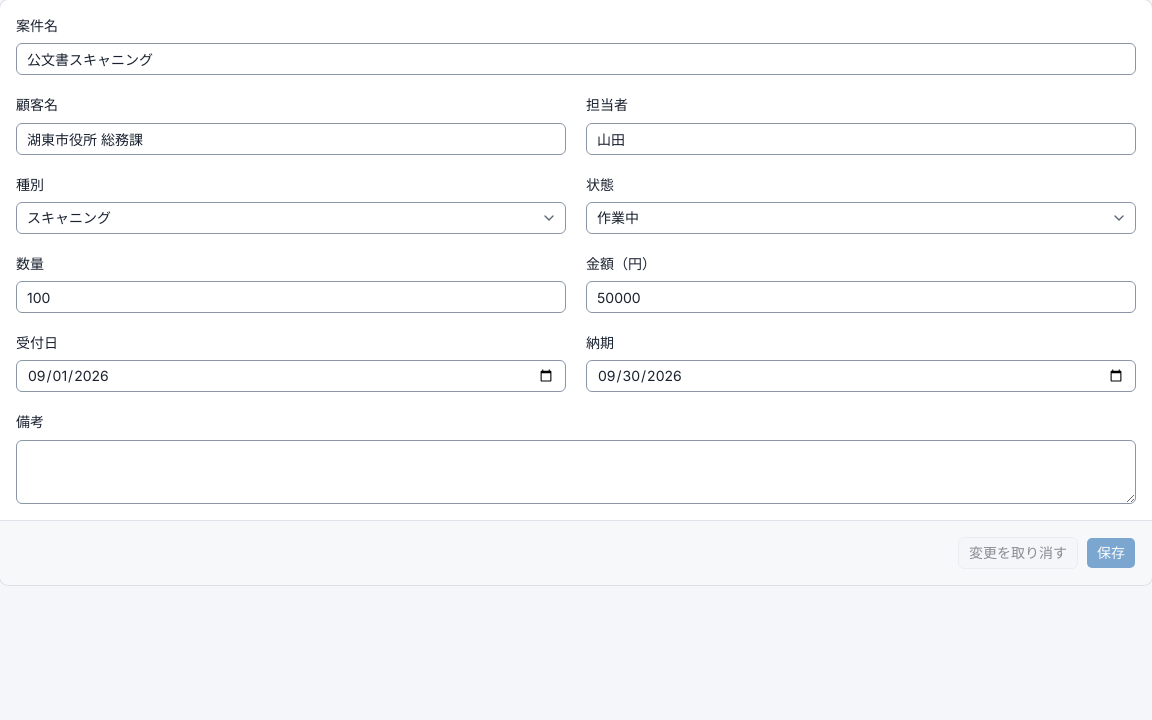
Scenario: OrderEditForm › 入力エラーがあると項目の下に理由を出し、保存しない
Clear the field labelled "案件名" at point(576, 59), box [16,43,1136,75]
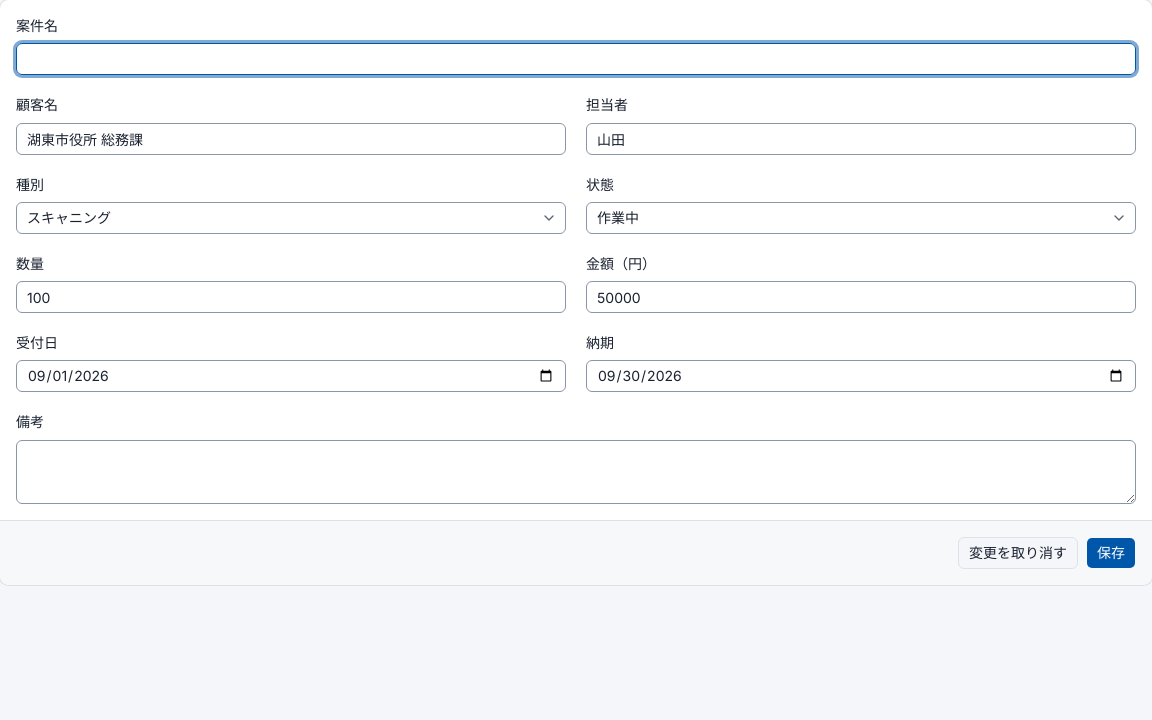
Replace the text in the field labelled "金額（円）" with "-5" at point(861, 297), box [586,281,1136,313]
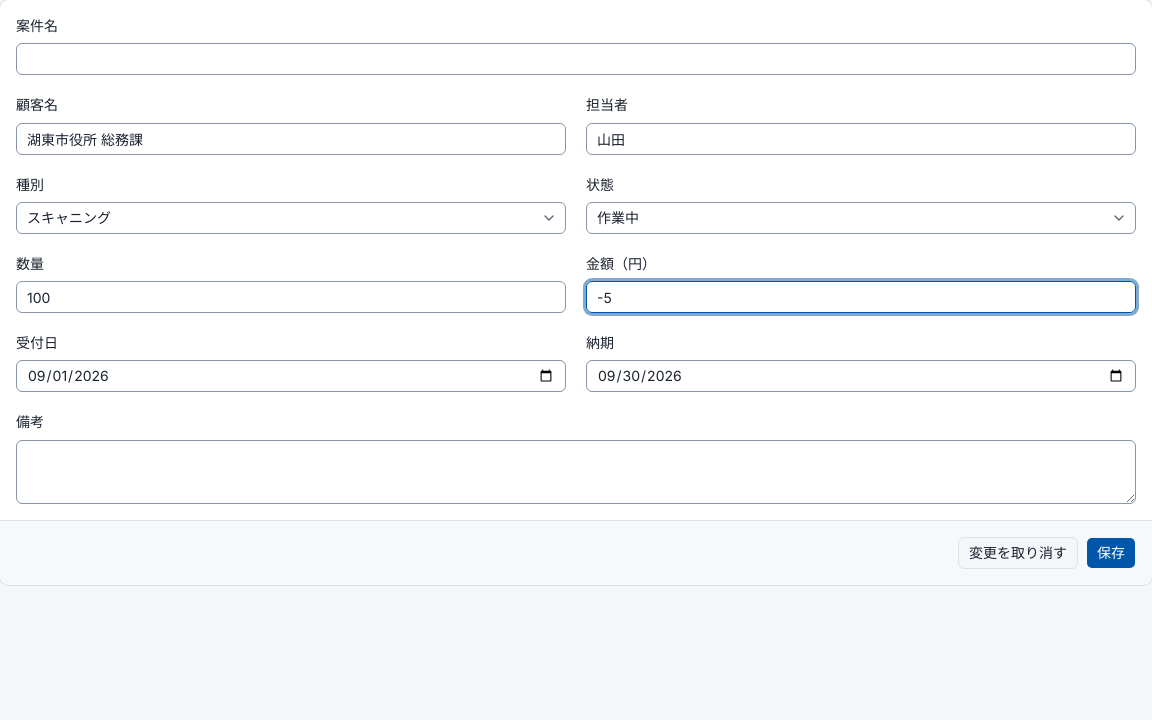
Click the button "保存".
click(1111, 552)  # box [1086,536,1136,568]
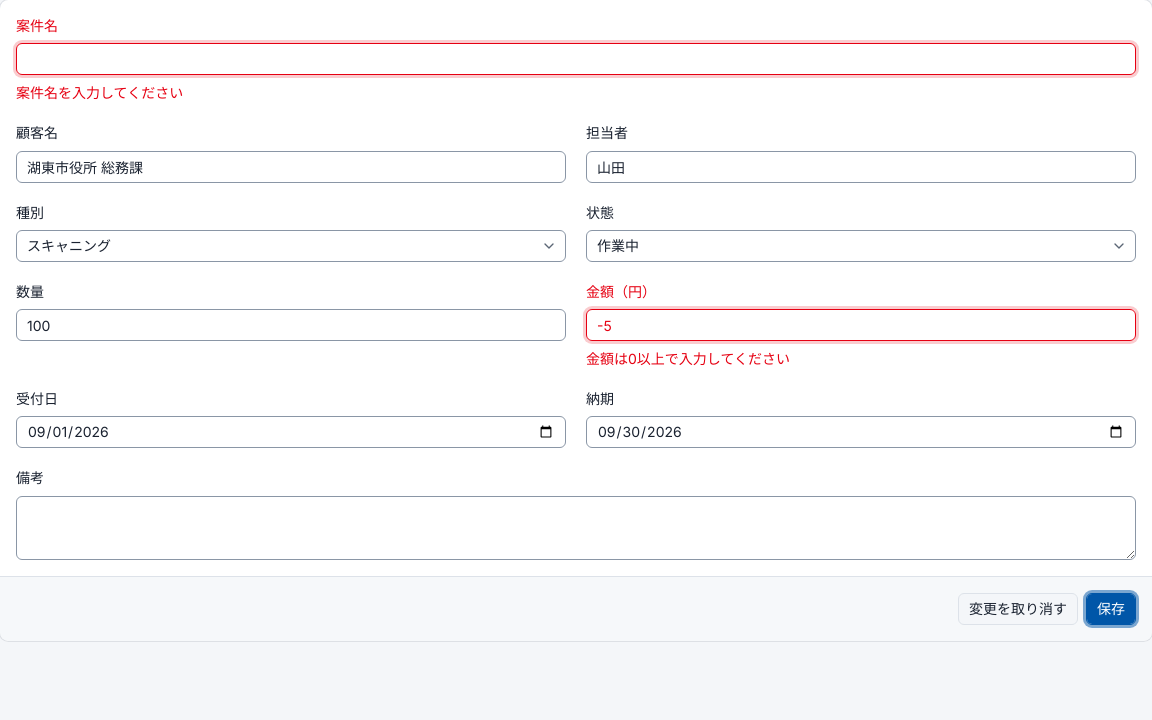
Result: the text "案件名を入力してください" is shown at [16,84,183,101]
Result: the text "金額は0以上で入力してください" is shown at [586,350,790,367]
